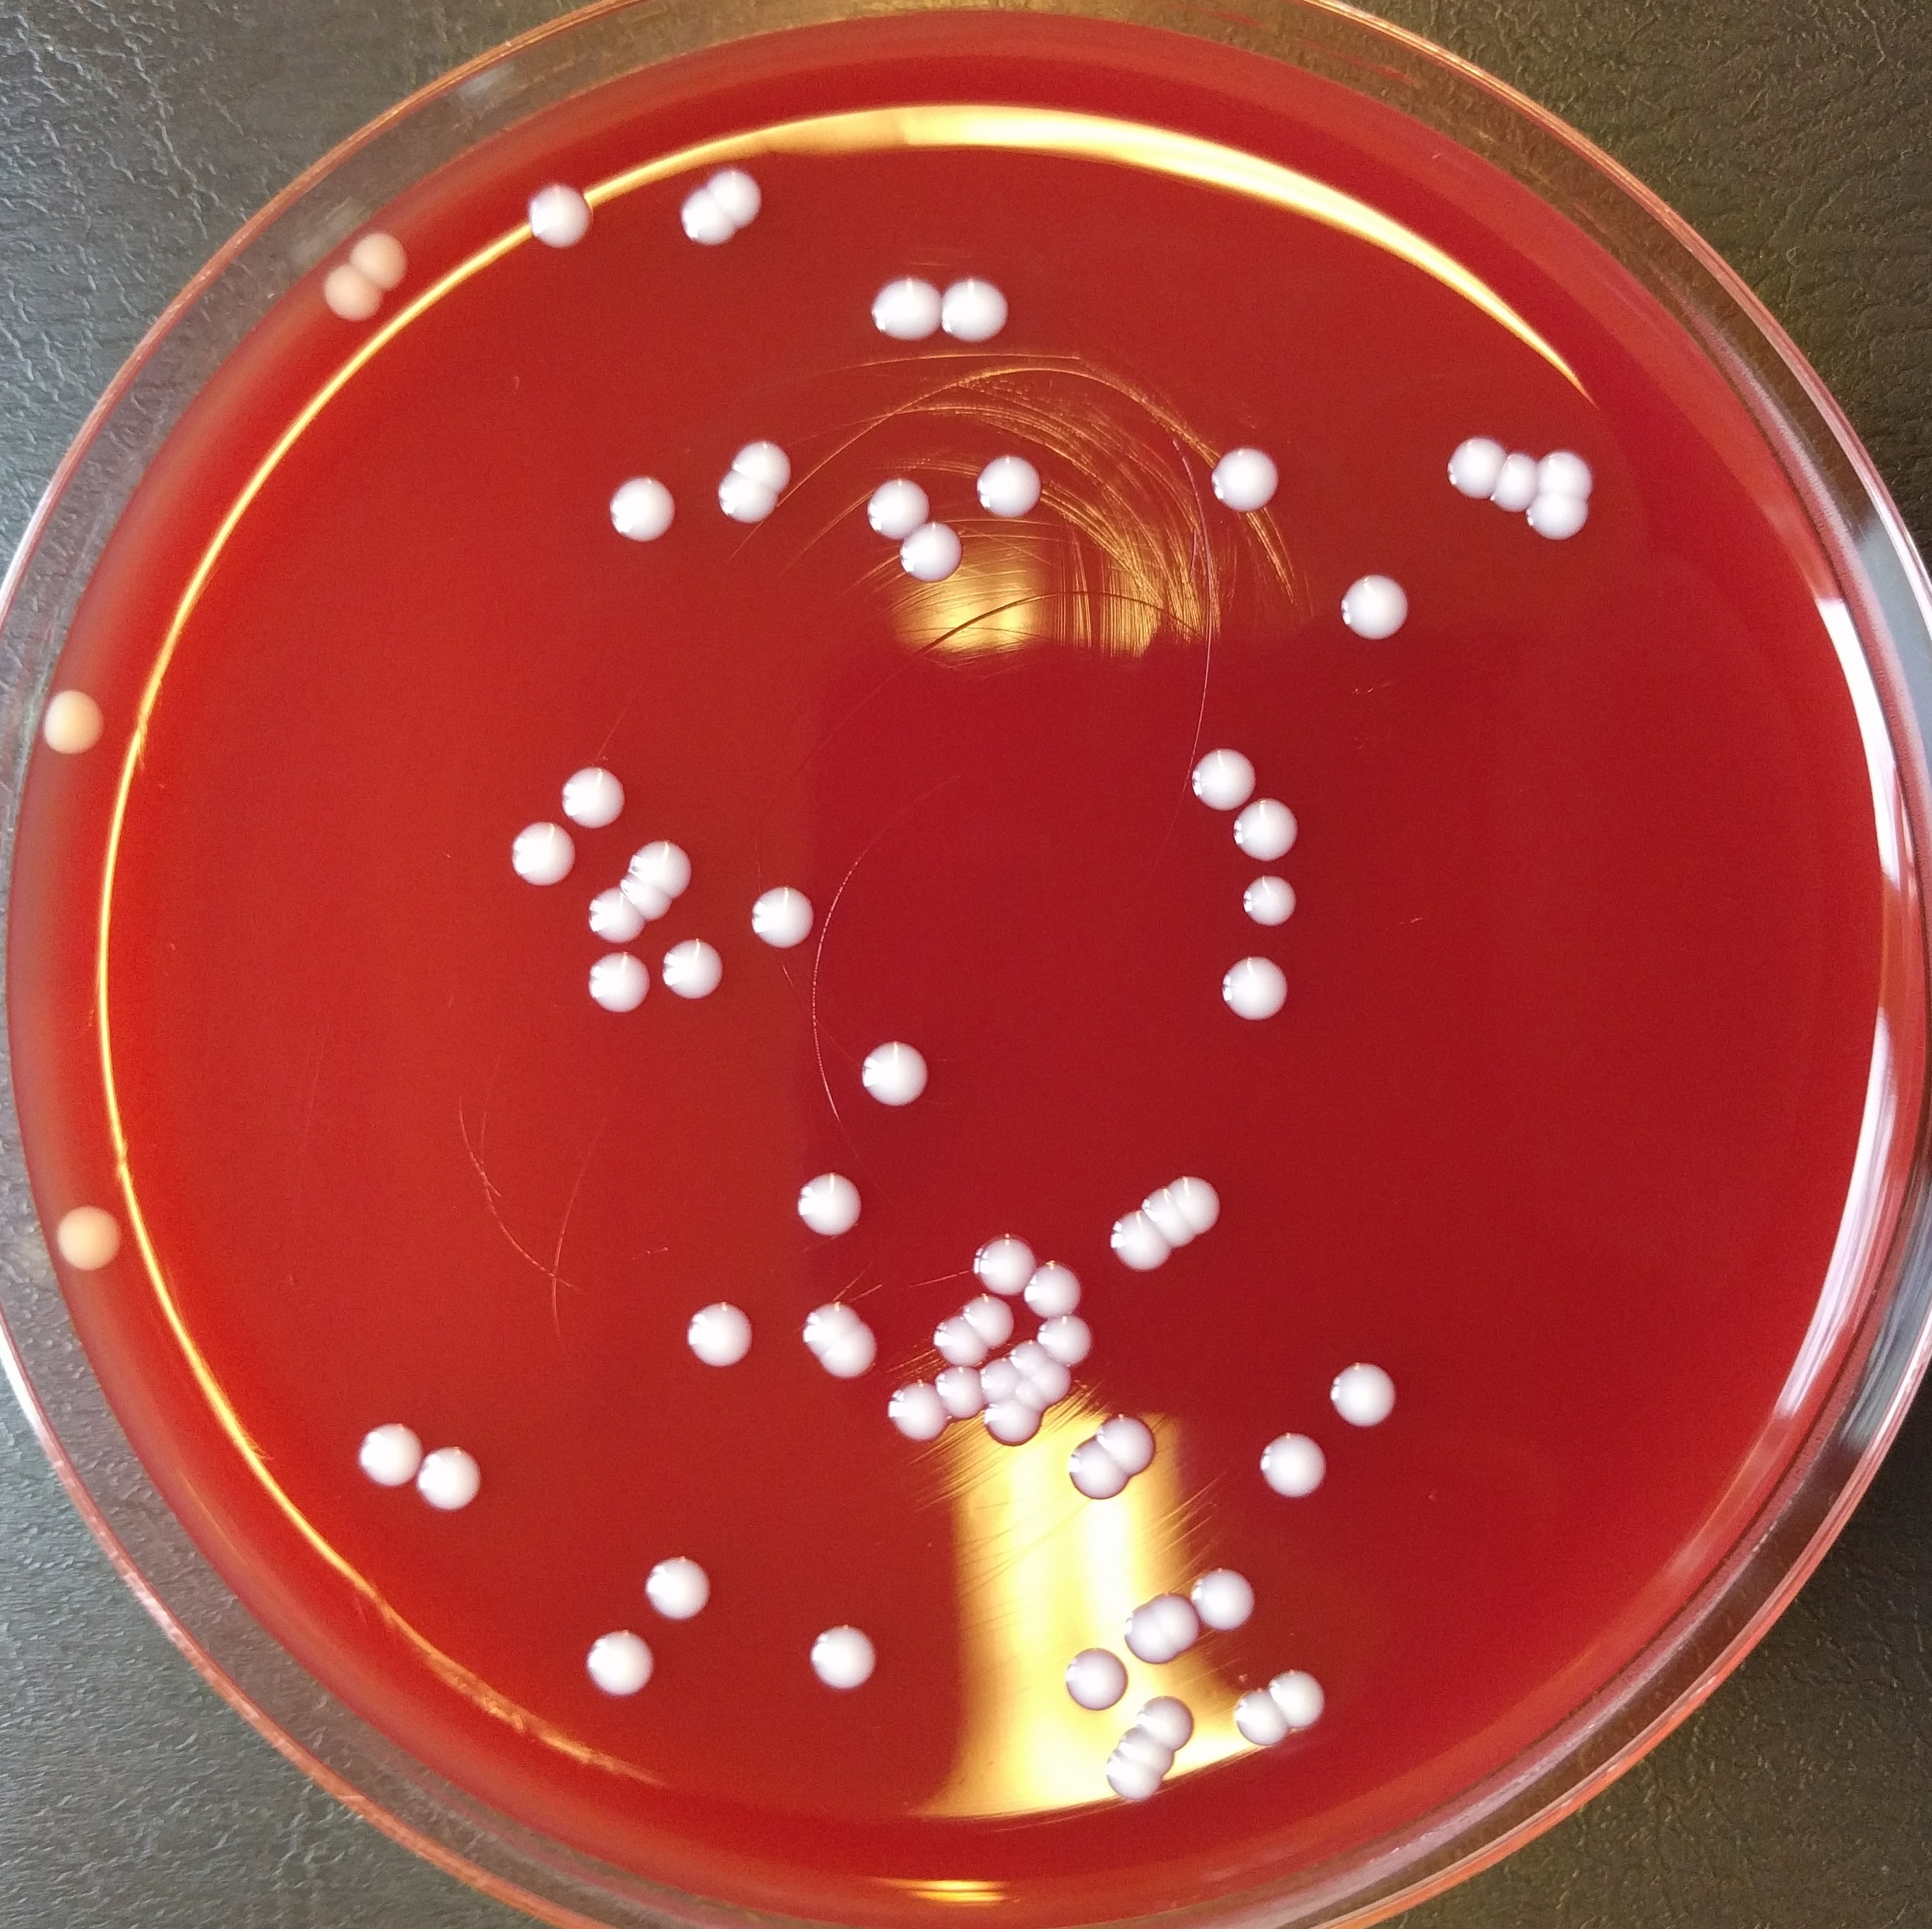sp22: (539, 738, 641, 862), (1330, 555, 1434, 664), (1204, 943, 1307, 1039), (30, 1198, 140, 1284), (32, 675, 124, 767), (745, 874, 826, 972), (1256, 1413, 1333, 1514), (572, 945, 652, 1037), (938, 272, 1021, 359), (970, 449, 1056, 532), (1326, 1353, 1404, 1445), (680, 1293, 763, 1378), (857, 1032, 932, 1122), (1206, 436, 1282, 525), (869, 269, 943, 359), (609, 475, 692, 555), (966, 1217, 1037, 1309), (1189, 1556, 1268, 1638), (581, 1625, 664, 1703), (1102, 1396, 1171, 1489), (1095, 1205, 1164, 1297), (519, 175, 595, 258), (1185, 735, 1259, 820), (1044, 1645, 1137, 1712), (1053, 1433, 1127, 1514), (809, 1622, 885, 1699), (1229, 867, 1312, 938), (706, 470, 782, 546), (731, 419, 811, 491), (795, 1171, 869, 1247), (1263, 1660, 1339, 1735), (662, 927, 729, 1010), (509, 818, 579, 896), (641, 1553, 713, 1627), (1438, 427, 1499, 514), (1090, 1740, 1167, 1805), (1130, 1687, 1211, 1749), (351, 1418, 422, 1489), (413, 1447, 487, 1514), (1109, 1602, 1173, 1676), (1234, 795, 1302, 864), (1023, 1260, 1091, 1327), (901, 519, 962, 594), (1033, 1316, 1111, 1374), (865, 472, 929, 542), (927, 1364, 991, 1434), (671, 191, 743, 253), (623, 839, 698, 899), (343, 228, 413, 290), (314, 263, 385, 323), (1524, 484, 1589, 548), (1226, 1692, 1298, 1749), (885, 1383, 947, 1447), (708, 168, 777, 224), (1167, 1166, 1224, 1233), (929, 1309, 985, 1376), (1141, 1593, 1208, 1650), (1012, 1341, 1075, 1399), (583, 885, 648, 942), (959, 1293, 1019, 1351), (1489, 443, 1536, 516), (1136, 1185, 1190, 1247), (613, 871, 669, 927), (795, 1298, 867, 1341), (1540, 447, 1595, 502), (821, 1334, 890, 1376), (989, 1399, 1038, 1457), (1118, 1728, 1173, 1770), (980, 1360, 1015, 1401), (1015, 1387, 1056, 1420)
